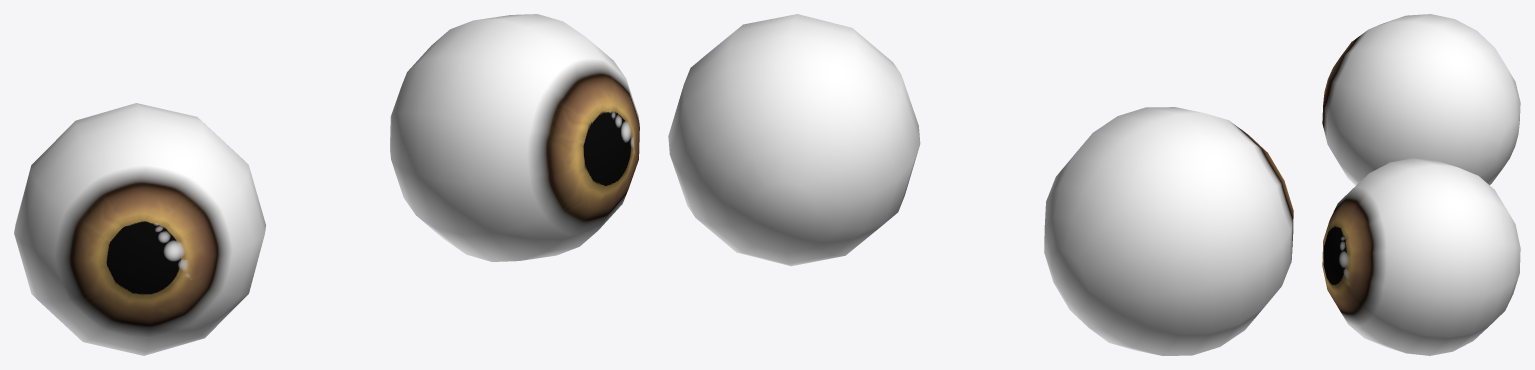
The model's file is pup_eyes.fbx.
3 views of the same model, side by side, from view 1: azimuth 30°, elevation 25°; view 2: azimuth 150°, elevation 25°; view 3: azimuth 270°, elevation 25° (orthographic). The views are drawn at different scales.
Visible parts, largest first — view 1: pup_eye_l_mesh, pup_eye_r_mesh; view 2: pup_eye_r_mesh, pup_eye_l_mesh; view 3: pup_eye_l_mesh, pup_eye_r_mesh.
Part boxes in pixels (x1=…): pup_eye_l_mesh: x1=390, y1=14, x2=639, y2=261; pup_eye_r_mesh: x1=14, y1=103, x2=266, y2=355; pup_eye_r_mesh: x1=1044, y1=107, x2=1293, y2=355; pup_eye_l_mesh: x1=668, y1=14, x2=920, y2=266; pup_eye_l_mesh: x1=1322, y1=158, x2=1520, y2=355; pup_eye_r_mesh: x1=1322, y1=14, x2=1520, y2=185.
Bounding box in the file's own units: 0.4304 × 0.1585 × 0.1583.
